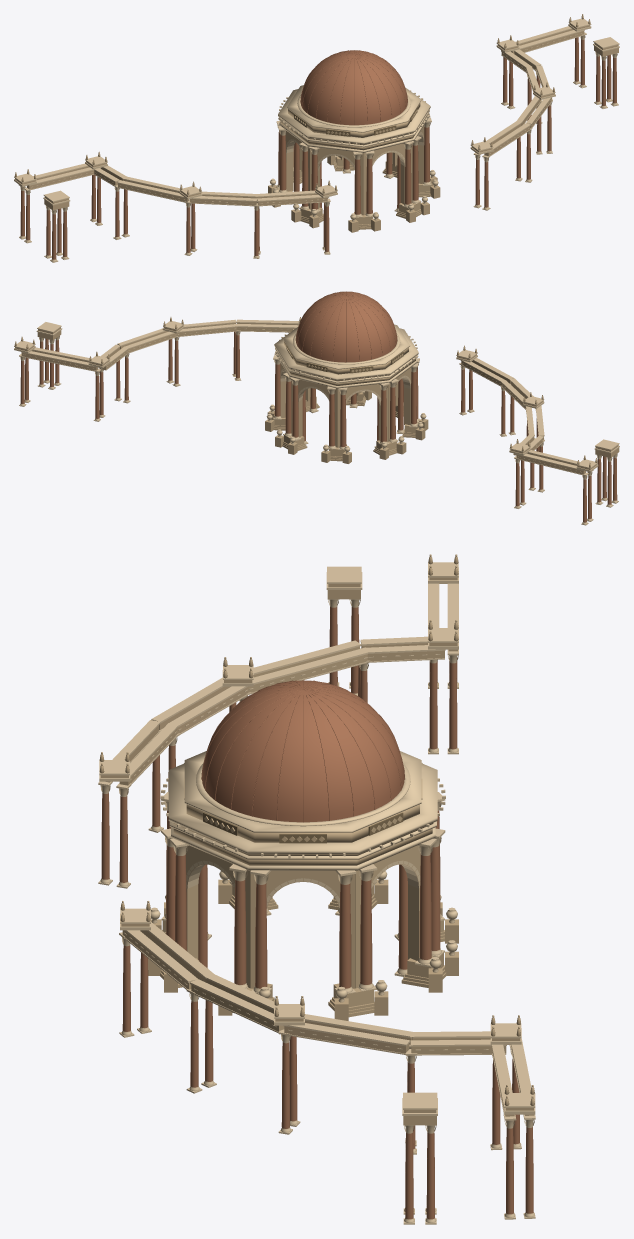
Rendered from palace-of-fine-arts.glb.
3 views of the same model, one above another, from view 1: azimuth 30°, elevation 25°; view 2: azimuth 150°, elevation 25°; view 3: azimuth 270°, elevation 25° (orthographic). The views are drawn at different scales.
Parts seen in each view (by area): view 1: rotunda, colonnades; view 2: rotunda, colonnades; view 3: rotunda, colonnades.
Part boxes in pixels (left/top/right/bottom): rotunda: left=268, top=50, right=440, bottom=232; colonnades: left=14, top=14, right=619, bottom=262; rotunda: left=265, top=291, right=428, bottom=463; colonnades: left=14, top=317, right=619, bottom=525; rotunda: left=148, top=680, right=458, bottom=1020; colonnades: left=98, top=554, right=535, bottom=1224.
Size of the model in its own units: 216 by 49.38 by 73.37.
